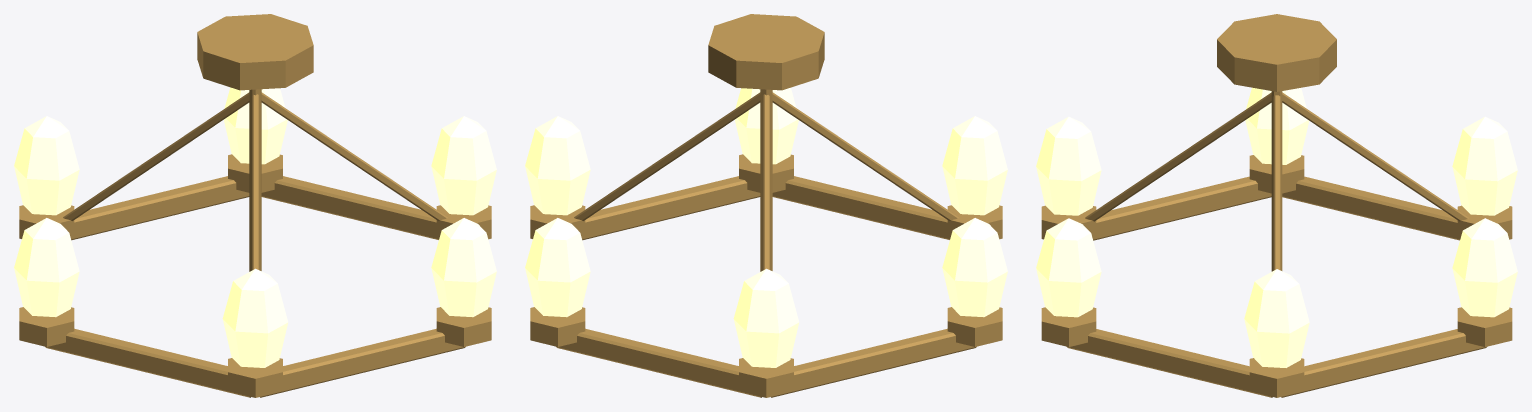
The model's file is chandelier_01.glb.
3 renders of one model, left to right at view 1: azimuth 30°, elevation 25°; view 2: azimuth 150°, elevation 25°; view 3: azimuth 270°, elevation 25°, orthographic.
Visible parts, largest first — view 1: Ceiling_rose, Glow_0, Glow_2, Glow_5, Glow_4, Glow_3, Ring_3, Ring_4, Ring_1, Ring_0, Glow_1, Spoke_0 (+9 smaller); view 2: Ceiling_rose, Glow_0, Glow_4, Glow_3, Glow_2, Glow_1, Ring_1, Ring_2, Ring_5, Ring_4, Glow_5, Spoke_0 (+9 smaller); view 3: Ceiling_rose, Glow_2, Glow_5, Glow_4, Glow_1, Glow_0, Ring_0, Ring_5, Ring_3, Ring_2, Glow_3, Spoke_2 (+9 smaller).
Part boxes in pixels (x1=…): Ceiling_rose: x1=197, y1=14, x2=313, y2=90; Glow_0: x1=431, y1=116, x2=496, y2=215; Glow_2: x1=14, y1=116, x2=79, y2=215; Glow_5: x1=431, y1=218, x2=496, y2=317; Glow_4: x1=222, y1=268, x2=288, y2=367; Glow_3: x1=14, y1=218, x2=79, y2=317; Ring_3: x1=45, y1=328, x2=250, y2=397; Ring_4: x1=260, y1=328, x2=465, y2=397; Ring_1: x1=71, y1=176, x2=249, y2=240; Ring_0: x1=261, y1=176, x2=438, y2=239; Glow_1: x1=224, y1=87, x2=287, y2=164; Spoke_0: x1=261, y1=92, x2=447, y2=220; Ceiling_rose: x1=708, y1=14, x2=824, y2=90; Glow_0: x1=525, y1=116, x2=590, y2=215; Glow_4: x1=942, y1=116, x2=1007, y2=215; Glow_3: x1=942, y1=218, x2=1007, y2=317; Glow_2: x1=733, y1=268, x2=799, y2=367; Glow_1: x1=525, y1=218, x2=590, y2=317; Ring_1: x1=556, y1=328, x2=761, y2=397; Ring_2: x1=771, y1=328, x2=976, y2=397; Ring_5: x1=582, y1=176, x2=760, y2=240; Ring_4: x1=772, y1=176, x2=949, y2=239; Glow_5: x1=735, y1=87, x2=798, y2=164; Spoke_0: x1=574, y1=92, x2=760, y2=220; Ceiling_rose: x1=1217, y1=14, x2=1336, y2=91; Glow_2: x1=1452, y1=116, x2=1517, y2=215; Glow_5: x1=1036, y1=218, x2=1101, y2=317; Glow_4: x1=1036, y1=116, x2=1101, y2=215; Glow_1: x1=1452, y1=218, x2=1517, y2=317; Glow_0: x1=1244, y1=269, x2=1309, y2=367; Ring_0: x1=1281, y1=329, x2=1486, y2=397; Ring_5: x1=1067, y1=329, x2=1272, y2=397; Ring_3: x1=1093, y1=176, x2=1271, y2=240; Ring_2: x1=1282, y1=176, x2=1459, y2=240; Glow_3: x1=1245, y1=87, x2=1309, y2=164; Spoke_2: x1=1282, y1=92, x2=1468, y2=221.
Bounding box in the file's own units: 1.81 × 0.9375 × 1.6.
